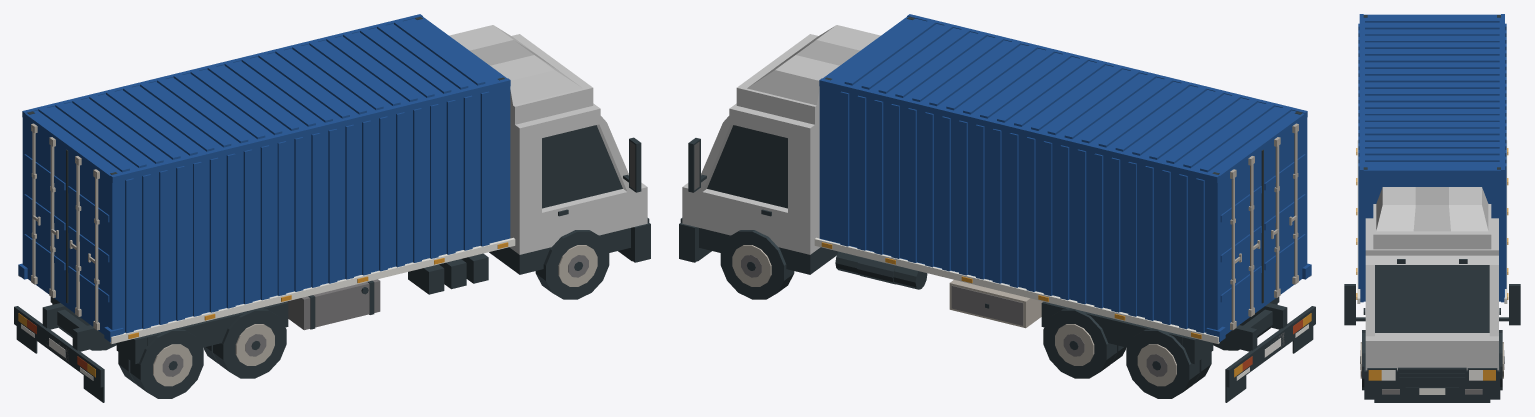
The model's file is cargo truck.fbx.
The picture shows the model from 3 angles, left to right: view 1: azimuth 30°, elevation 25°; view 2: azimuth 150°, elevation 25°; view 3: azimuth 270°, elevation 25°; orthographic projection. The views are drawn at different scales.
Parts seen in each view (by area): view 1: Bar_Guide_0_1.85, A2, Wheel_R2_R_Out_Cap, Wheel_R1_R_In_Tire, Wheel_F_R_Cap; view 2: Bar_Guide_0_1.85, A2, Wheel_R2_L_Out_Cap, Wheel_R1_L_Out_Cap, Wheel_F_L_Tire; view 3: Bar_Guide_0_1.85, A2, Wheel_F_R_Cap, Wheel_F_L_Tire.
Boxes of the visible parts, bbox=[...] form: Bar_Guide_0_1.85: bbox=[14, 14, 650, 402]; A2: bbox=[32, 122, 633, 326]; Wheel_R2_R_Out_Cap: bbox=[118, 328, 203, 398]; Wheel_R1_R_In_Tire: bbox=[203, 308, 286, 378]; Wheel_F_R_Cap: bbox=[535, 230, 609, 299]; Bar_Guide_0_1.85: bbox=[679, 14, 1315, 402]; A2: bbox=[696, 122, 1297, 326]; Wheel_R2_L_Out_Cap: bbox=[1126, 328, 1211, 398]; Wheel_R1_L_Out_Cap: bbox=[1043, 308, 1126, 378]; Wheel_F_L_Tire: bbox=[720, 230, 794, 299]; Bar_Guide_0_1.85: bbox=[1344, 14, 1520, 402]; A2: bbox=[1365, 265, 1498, 336]; Wheel_F_R_Cap: bbox=[1360, 330, 1365, 390]; Wheel_F_L_Tire: bbox=[1499, 330, 1504, 390].
Bounding box in the file's own units: 869 × 358 × 298.
